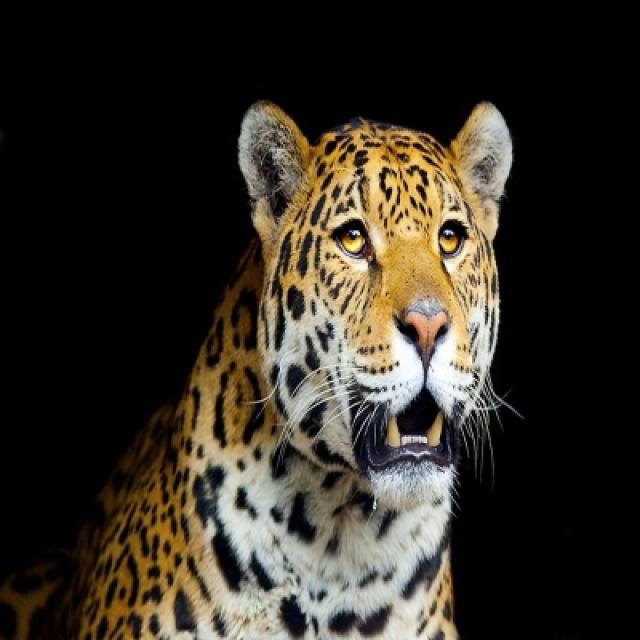Jaguar: (0, 101, 515, 638)
